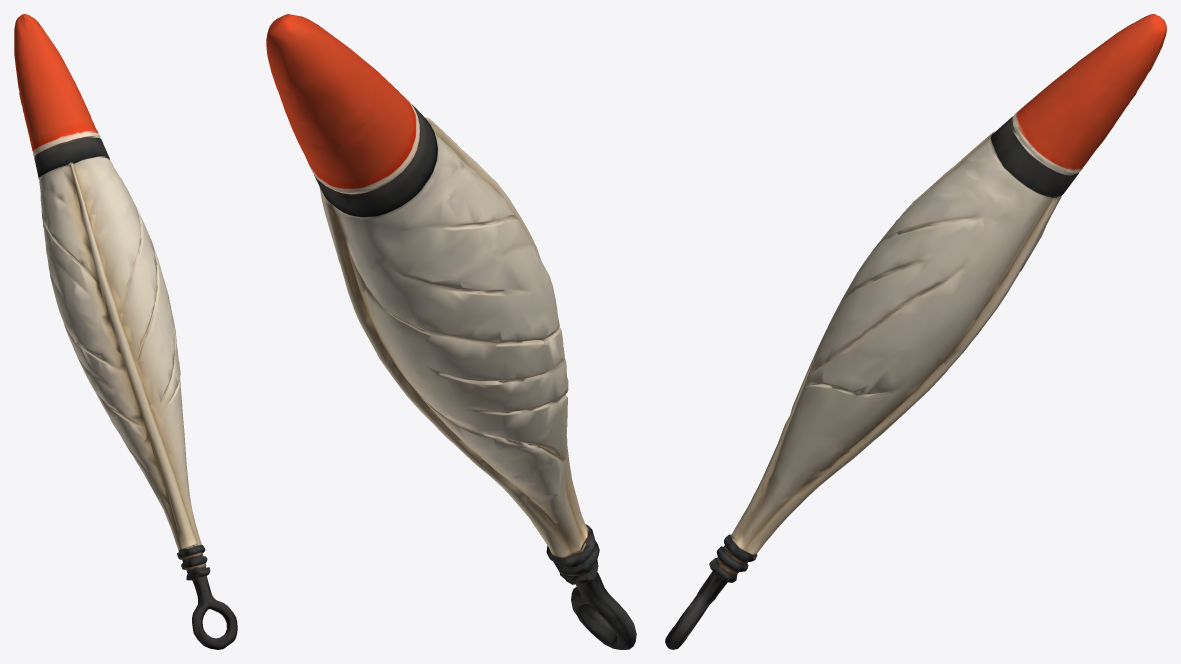
File: gear-float2.glb
3 views of the same model, side by side, from view 1: azimuth 30°, elevation 25°; view 2: azimuth 150°, elevation 25°; view 3: azimuth 270°, elevation 25° (orthographic). The views are drawn at different scales.
Parts seen in each view (by area): view 1: tripo_node_3e890dd8-f522-41a0-97c3-7ff5d40804e4; view 2: tripo_node_3e890dd8-f522-41a0-97c3-7ff5d40804e4; view 3: tripo_node_3e890dd8-f522-41a0-97c3-7ff5d40804e4.
Boxes of the visible parts, x1,y1,x2,y2 form: tripo_node_3e890dd8-f522-41a0-97c3-7ff5d40804e4: [14, 14, 237, 649]; tripo_node_3e890dd8-f522-41a0-97c3-7ff5d40804e4: [266, 14, 636, 649]; tripo_node_3e890dd8-f522-41a0-97c3-7ff5d40804e4: [665, 14, 1166, 649].
Size of the model in its own units: 0.2002 by 1 by 0.7213.
1 material, 1 textured.
